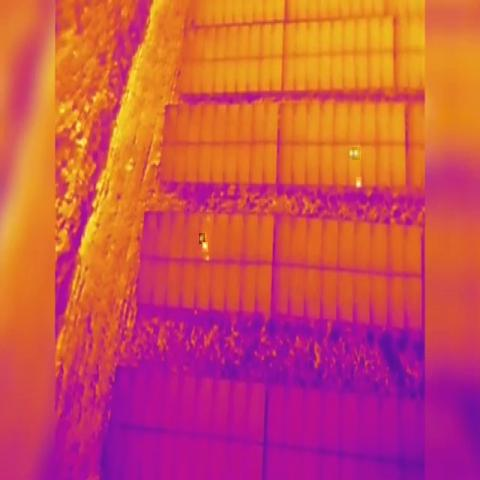fault: (352, 147, 360, 160), (348, 147, 354, 158), (356, 177, 362, 188), (200, 233, 206, 244), (206, 252, 212, 263), (202, 242, 208, 252)
